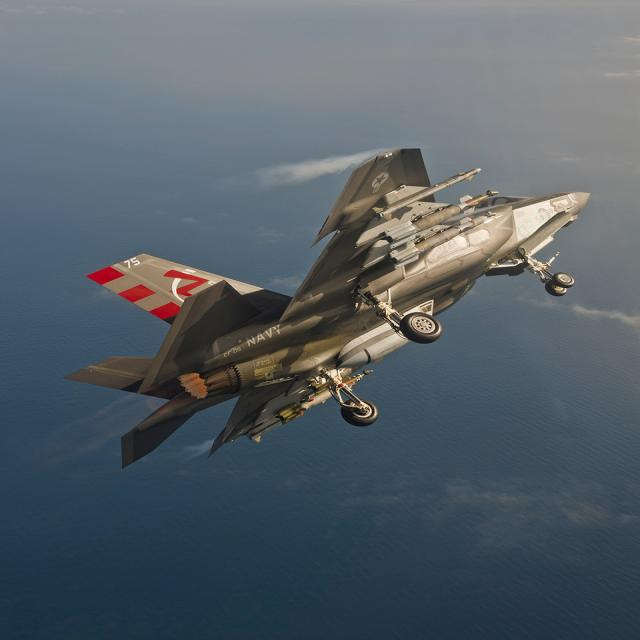MIL_Plane: (62, 148, 590, 470)
